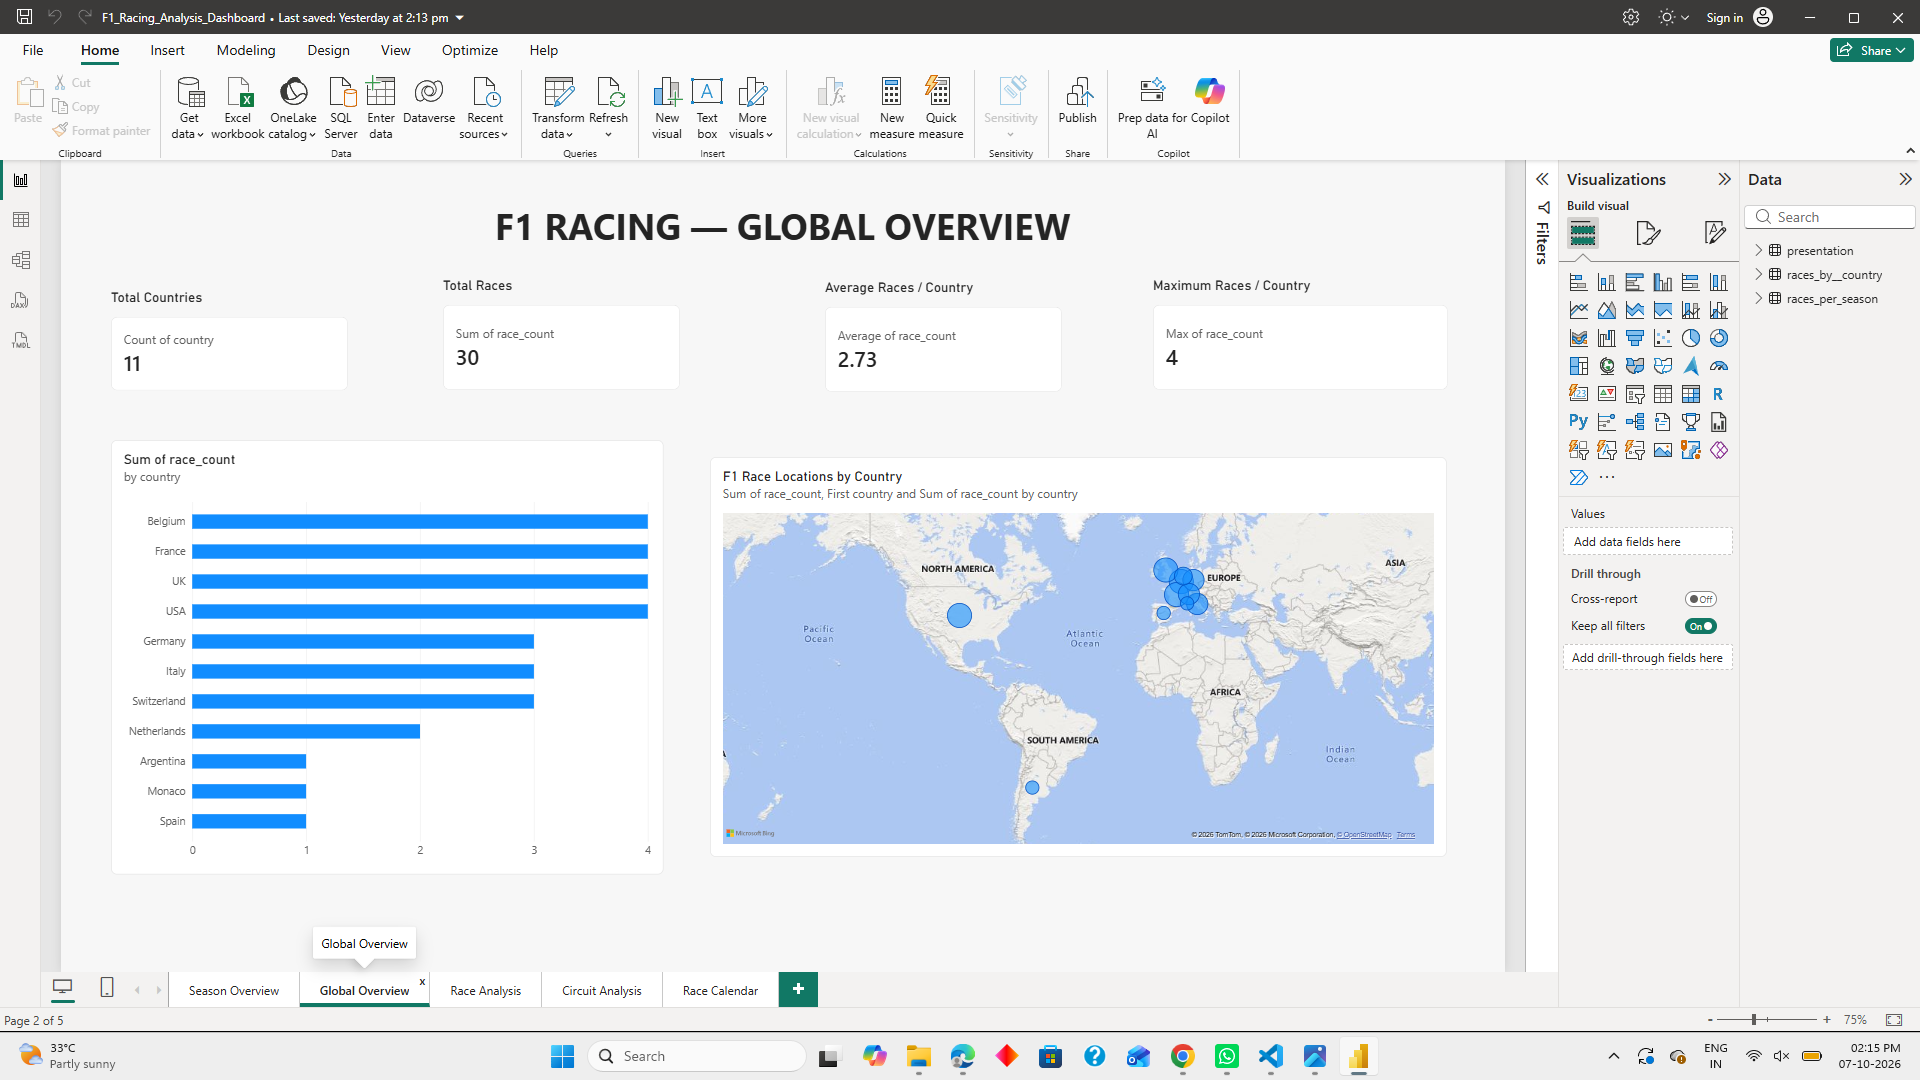

Layout of this report page (visuals, bound fields, positions):
{"tool":"powerbi","page":{"name":"Global Overview","canvas":[1920,1080],"ordinal":1},"visuals":[{"type":"textbox","box":[0,55,1920,100],"z":0},{"type":"cardVisual","title":"Total Countries","fields":{"Data":["Count(races_by__country.country)"]},"box":[66,172,315,135],"z":1000},{"type":"cardVisual","title":"Total Races","fields":{"Data":["Sum(races_by__country.race_count)"]},"box":[508,156,315,150],"z":2000},{"type":"cardVisual","title":"Average Races / Country","fields":{"Data":["Avg(races_by__country.race_count)"]},"box":[1016,158,315,150],"z":3000},{"type":"cardVisual","title":"Maximum Races / Country","fields":{"Data":["Max(races_by__country.race_count)"]},"box":[1452,156,392,150],"z":4000},{"type":"clusteredBarChart","fields":{"Category":["races_by__country.country"],"Y":["Sum(races_by__country.race_count)"]},"box":[65.9,372.7,735,577.5],"z":5000},{"type":"map","title":"F1 Race Locations by Country","fields":{"Category":["races_by__country.country"],"Size":["Sum(races_by__country.race_count)"]},"box":[863.6,395.5,980,532],"z":6000}]}

Visuals, with their boxes on the page's 1920x1080 design canvas (x1, y1, x2, y2). These are canvas units, not pixel positions in the 1920x1080 screenshot, which may show the page scaled, cropped or inside an application window:
textbox: (left=0, top=55, right=1920, bottom=155)
"Total Countries" cardVisual: (left=66, top=172, right=381, bottom=307)
"Total Races" cardVisual: (left=508, top=156, right=823, bottom=306)
"Average Races / Country" cardVisual: (left=1016, top=158, right=1331, bottom=308)
"Maximum Races / Country" cardVisual: (left=1452, top=156, right=1844, bottom=306)
clusteredBarChart - races_by__country.country x Sum(races_by__country.race_count): (left=66, top=373, right=801, bottom=950)
"F1 Race Locations by Country" map: (left=864, top=396, right=1844, bottom=928)
